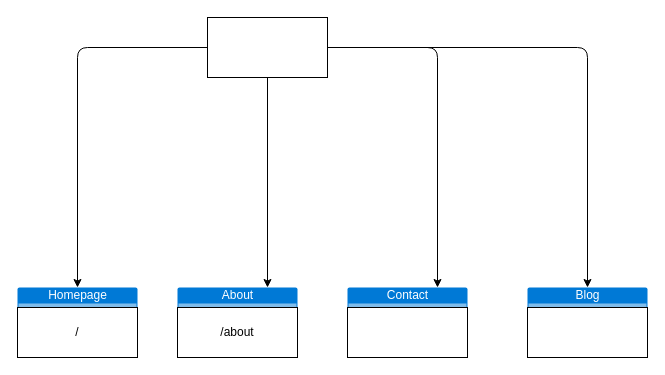
Some shapes in this 665 by 375 pixel diagram are drawn without their labels. Each missing label, with the centre of its shape:
"/blog" goes at [587,332].
"/contact" goes at [407,332].
"App" goes at [267,47].
